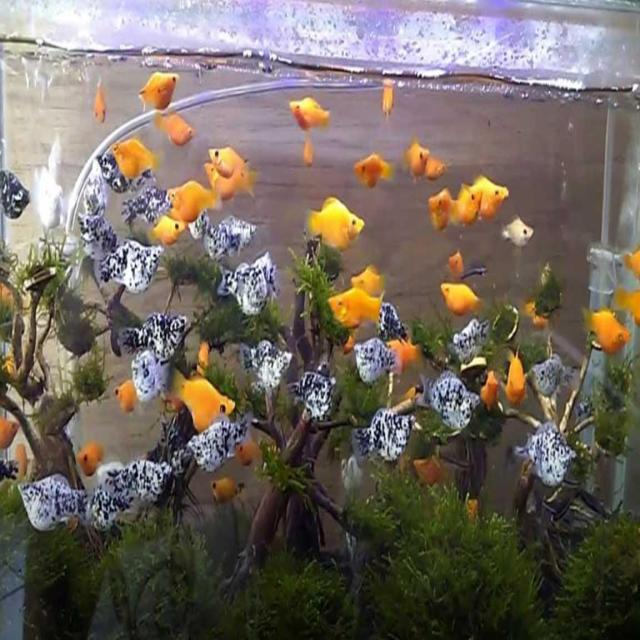PlatyFish: (168, 363, 242, 434), (293, 186, 365, 256), (319, 282, 393, 333), (429, 272, 490, 321), (282, 86, 336, 140), (133, 65, 188, 108)
